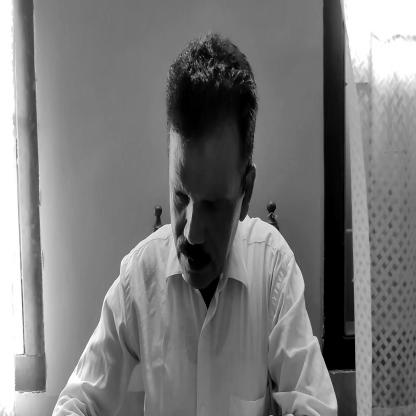Normal: (166, 34, 254, 292)
